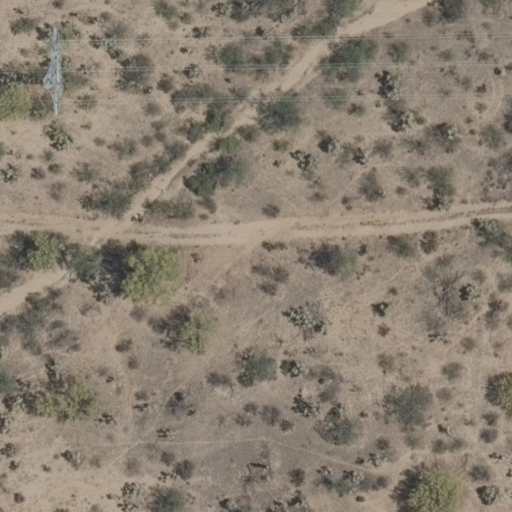TT: (29, 19, 84, 126)
